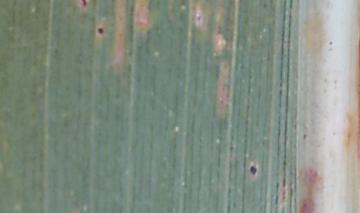tarspot: (250, 166, 257, 177), (97, 27, 104, 35), (81, 1, 87, 7)
